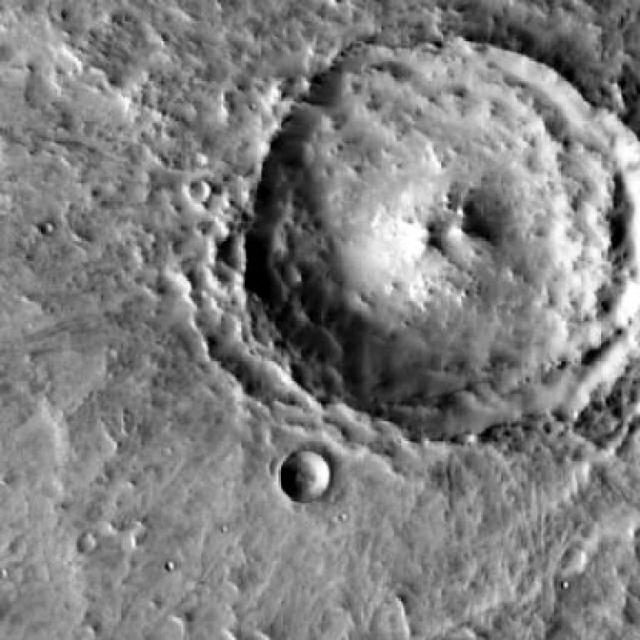crater: (247, 40, 640, 439), (277, 450, 331, 501), (74, 535, 94, 553)
